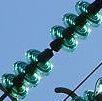gap: (24, 24, 79, 78)
